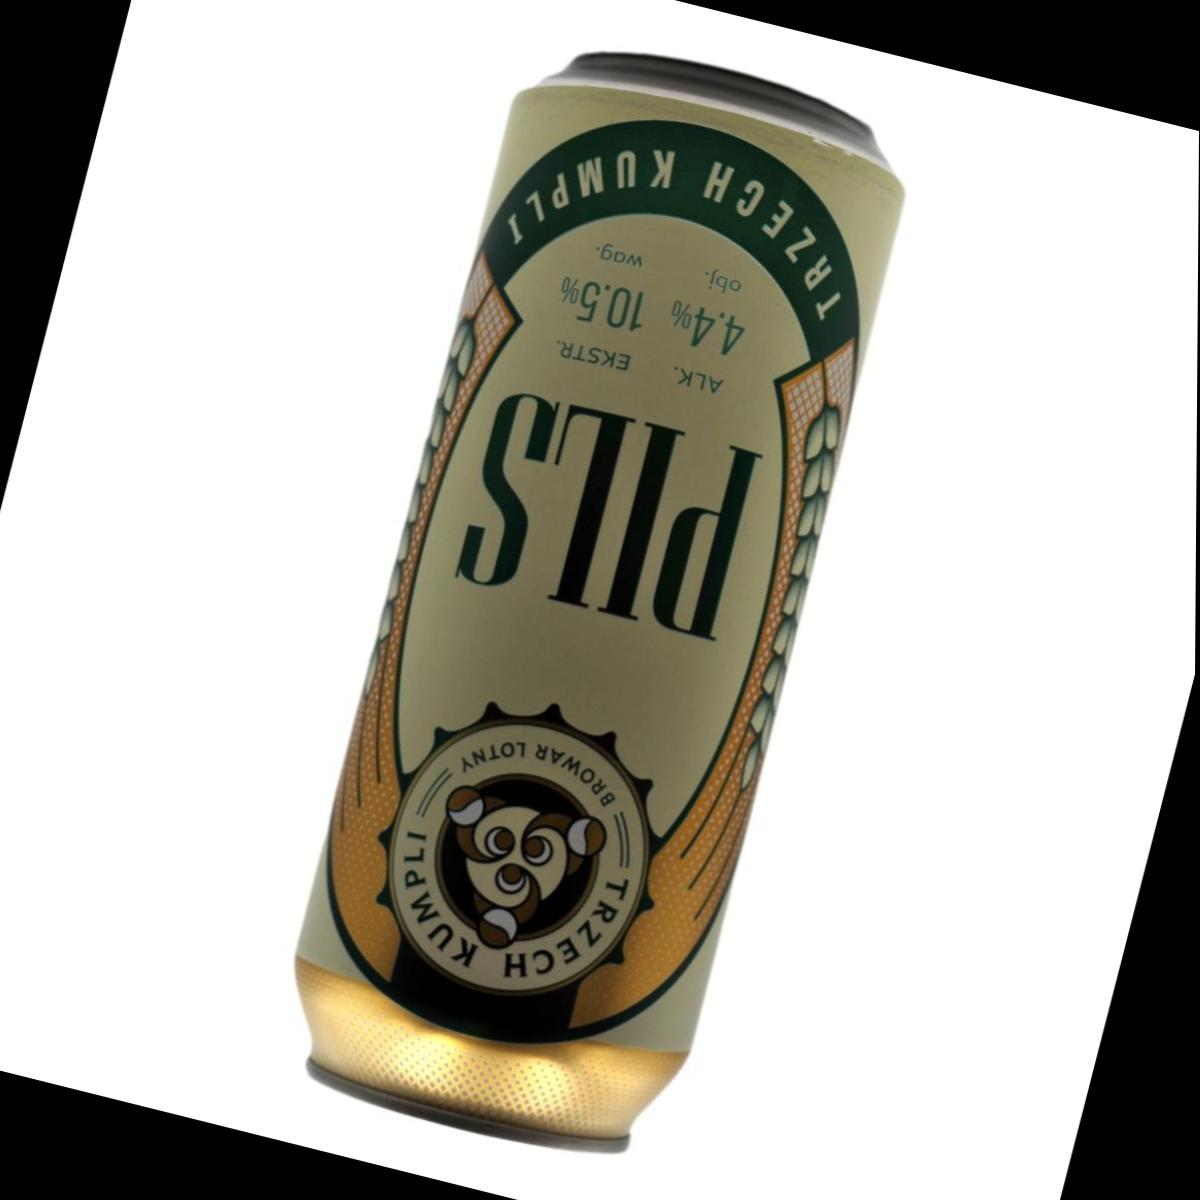metal: (296, 53, 905, 1155), (296, 86, 905, 1053)
